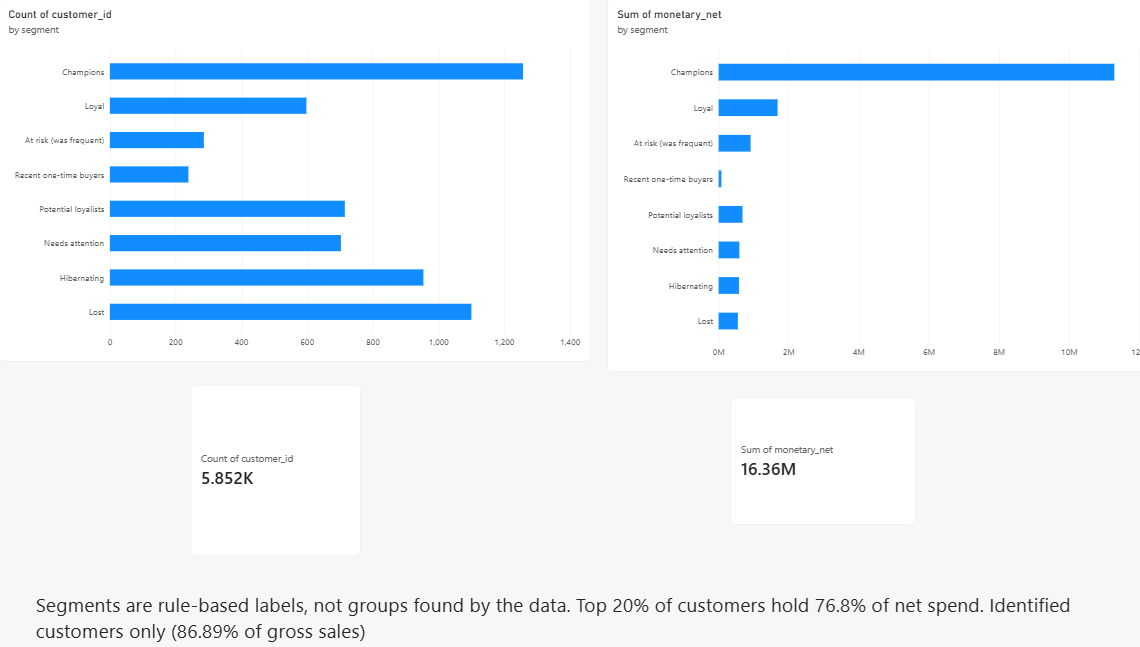

Layout of this report page (visuals, bound fields, positions):
{"tool":"powerbi","page":{"name":"Customer segments","canvas":[1920,1080],"ordinal":1},"visuals":[{"type":"clusteredBarChart","fields":{"Category":["rfm_segments.segment"],"Y":["CountNonNull(rfm_segments.customer_id)"]},"box":[10.3,0,975.6,596.9],"z":0},{"type":"clusteredBarChart","fields":{"Category":["rfm_segments.segment"],"Y":["Sum(rfm_segments.monetary_net)"]},"box":[1012.7,0,907.7,613.4],"z":1000},{"type":"cardVisual","fields":{"Data":["CountNonNull(rfm_segments.customer_id)"]},"box":[327.3,636,280,280],"z":2000},{"type":"cardVisual","fields":{"Data":["Sum(rfm_segments.monetary_net)"]},"box":[1216.5,656.6,304.6,209.9],"z":3000},{"type":"textbox","box":[71.8,975.9,1833,105.4],"z":4000}]}

Visuals, with their boxes in screenshot pixels (x1, y1, x2, y2), scaled from the page's 1920x1080 canvas onto the 1140x647 screenshot:
clusteredBarChart - rfm_segments.segment x CountNonNull(rfm_segments.customer_id): box=[6, 0, 585, 358]
clusteredBarChart - rfm_segments.segment x Sum(rfm_segments.monetary_net): box=[601, 0, 1139, 367]
cardVisual - CountNonNull(rfm_segments.customer_id): box=[194, 381, 361, 549]
cardVisual - Sum(rfm_segments.monetary_net): box=[722, 393, 903, 519]
textbox: box=[43, 585, 1131, 646]
